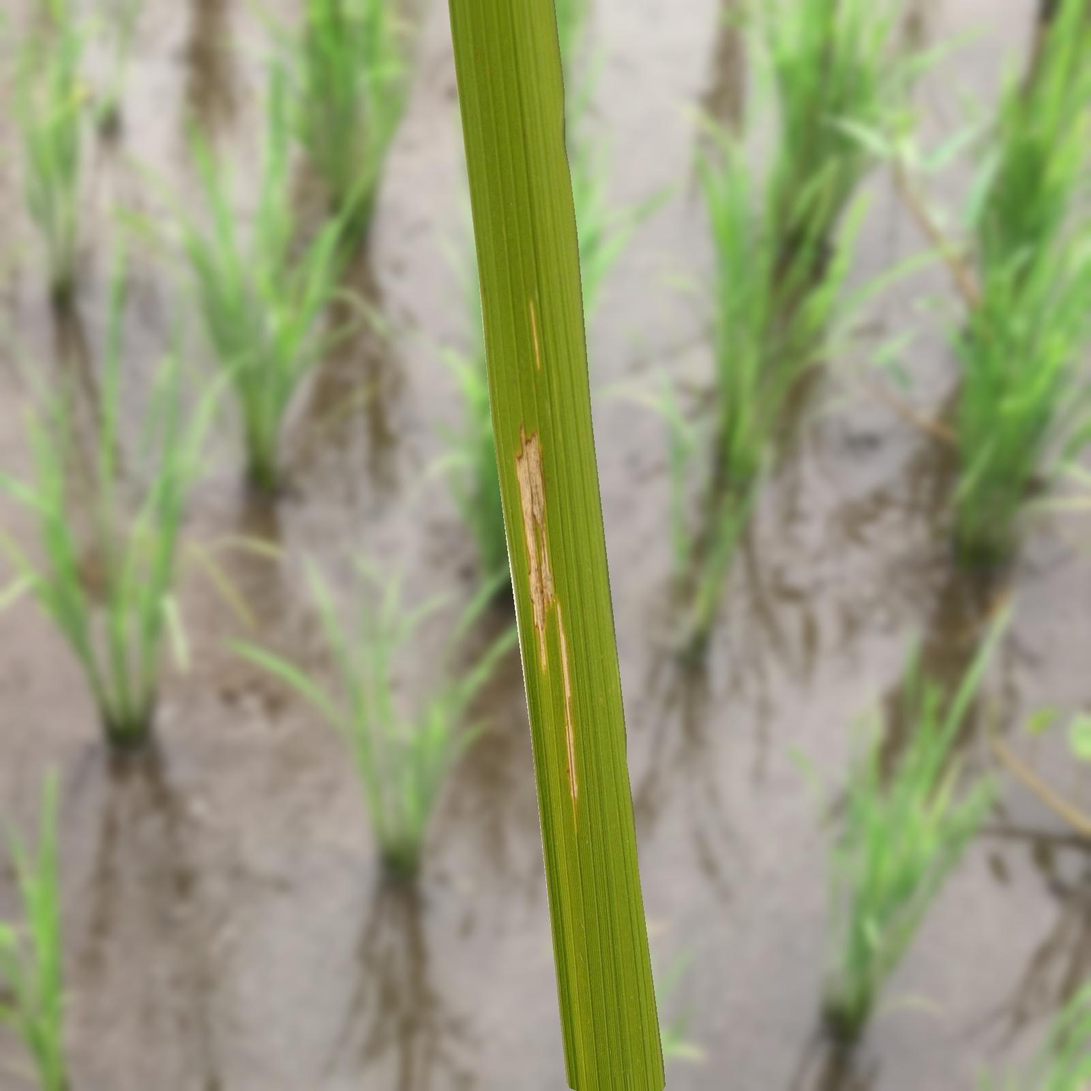BLS: (515, 428, 552, 669), (557, 603, 578, 821), (528, 299, 539, 370)
LEAF: (448, 0, 665, 1090)
